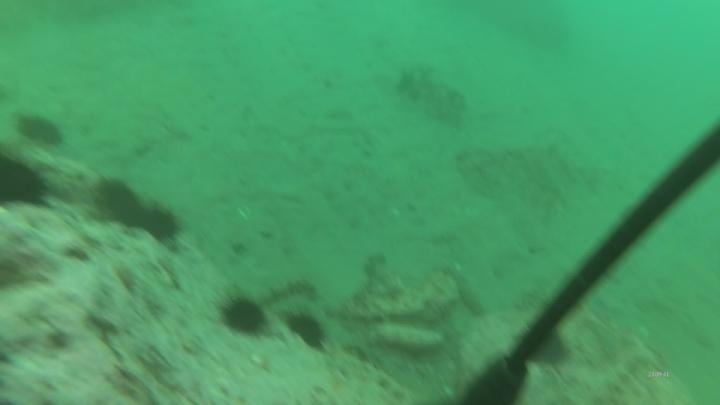echinus: (0, 151, 51, 211), (93, 177, 145, 228), (217, 292, 269, 338), (283, 309, 330, 353), (136, 202, 184, 245), (14, 111, 66, 150)
holothurian: (394, 63, 469, 128), (260, 275, 319, 308)
